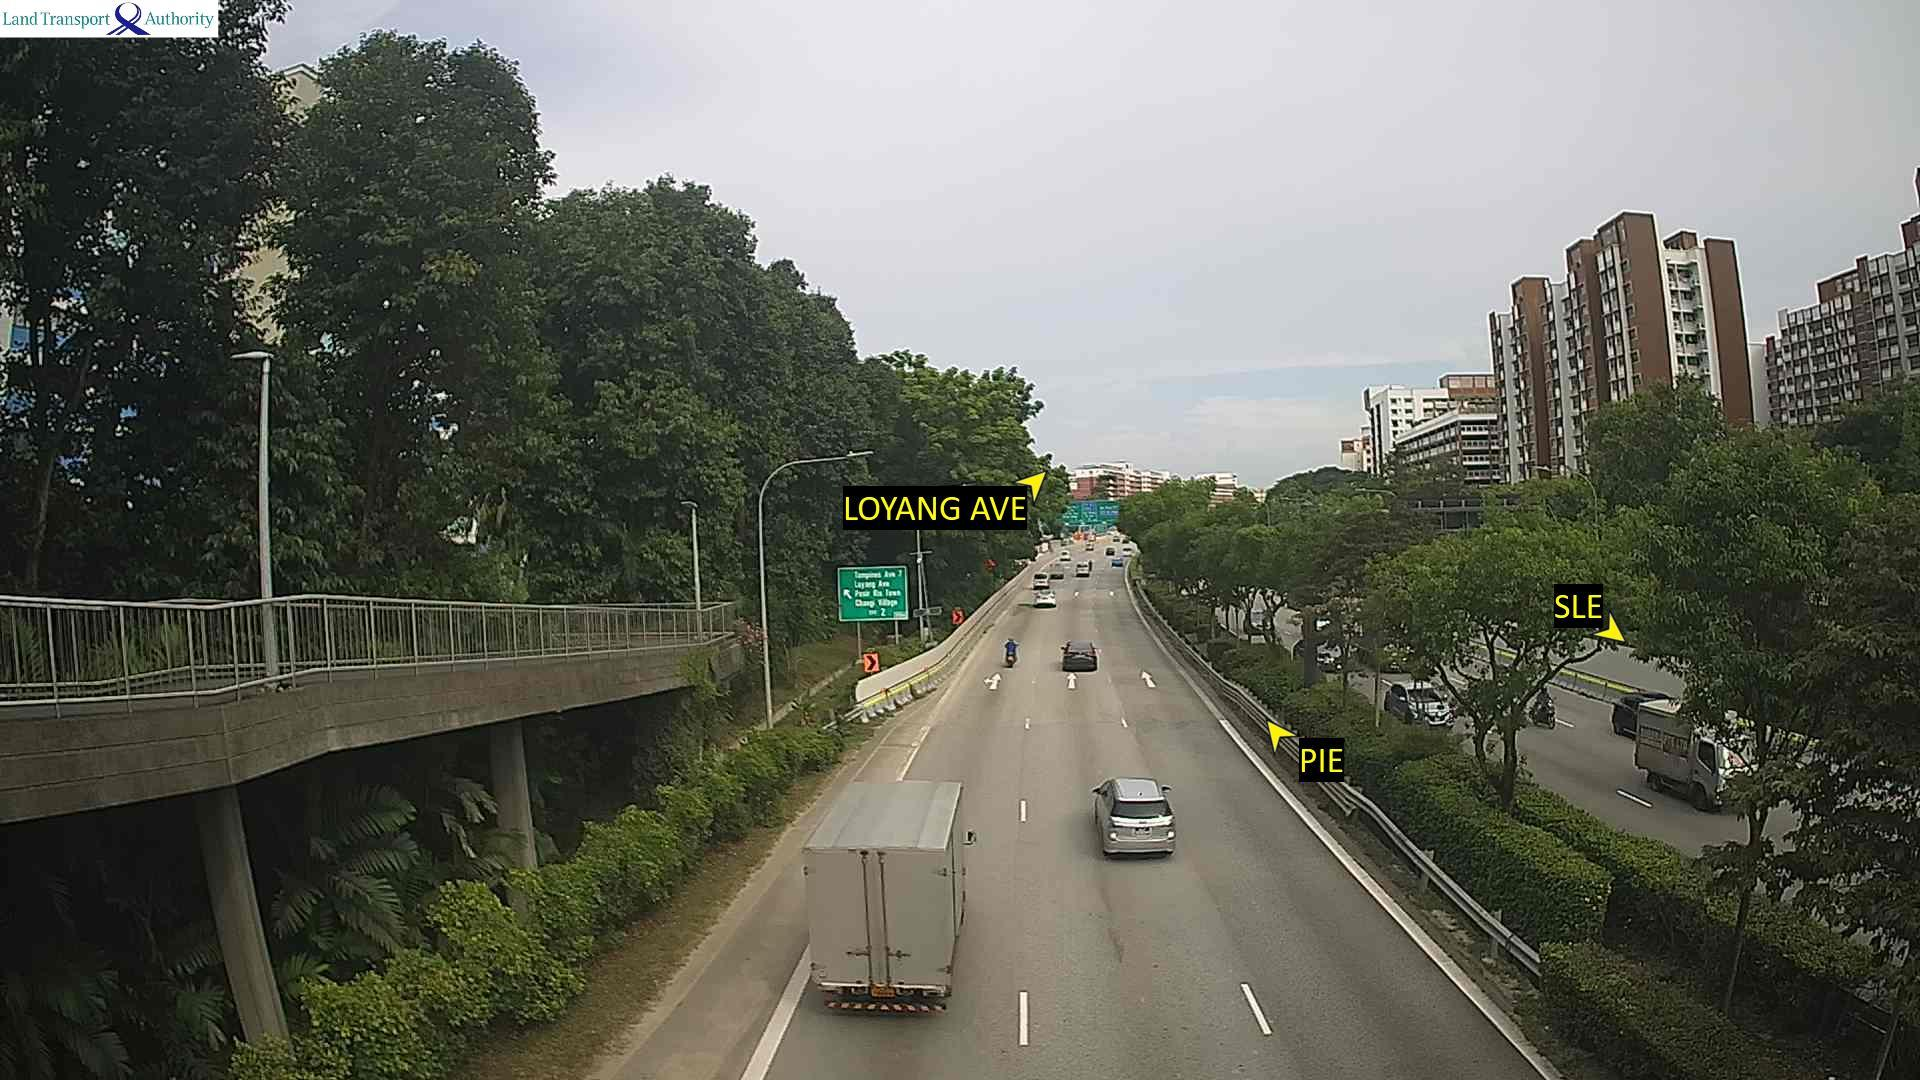cars: (1090, 775, 1176, 856), (1383, 680, 1455, 726), (1609, 689, 1673, 738), (1060, 639, 1097, 671), (1315, 644, 1340, 671), (1032, 588, 1056, 607), (1031, 572, 1050, 590), (1074, 559, 1091, 576), (1048, 563, 1065, 579), (1057, 548, 1070, 561), (1112, 555, 1126, 566), (1104, 544, 1115, 557)
motorcycle: (1526, 685, 1554, 728), (1003, 638, 1018, 667)
trucks: (799, 777, 970, 1015), (1631, 694, 1857, 813)
